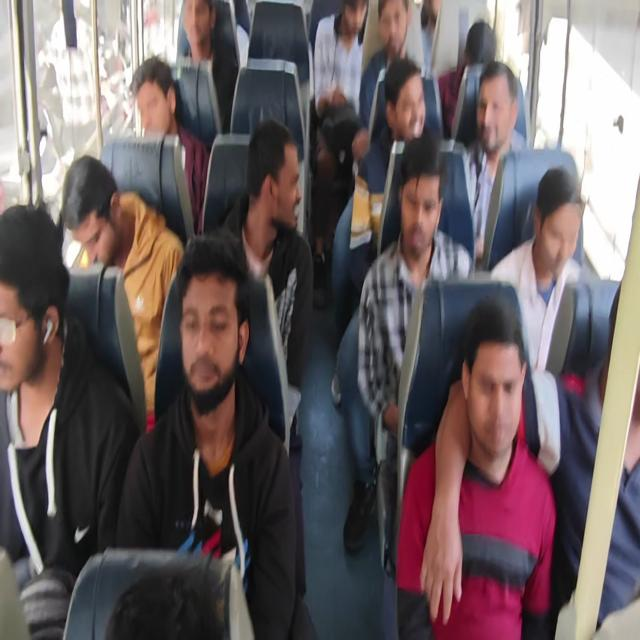person: (0, 194, 64, 396), (170, 253, 243, 405), (459, 298, 521, 468), (64, 152, 136, 262), (245, 122, 308, 240), (601, 280, 640, 440), (532, 178, 582, 283), (126, 57, 185, 143), (392, 159, 439, 253), (470, 78, 512, 157), (391, 72, 430, 137), (458, 25, 497, 82), (379, 1, 409, 56), (180, 0, 210, 50)
